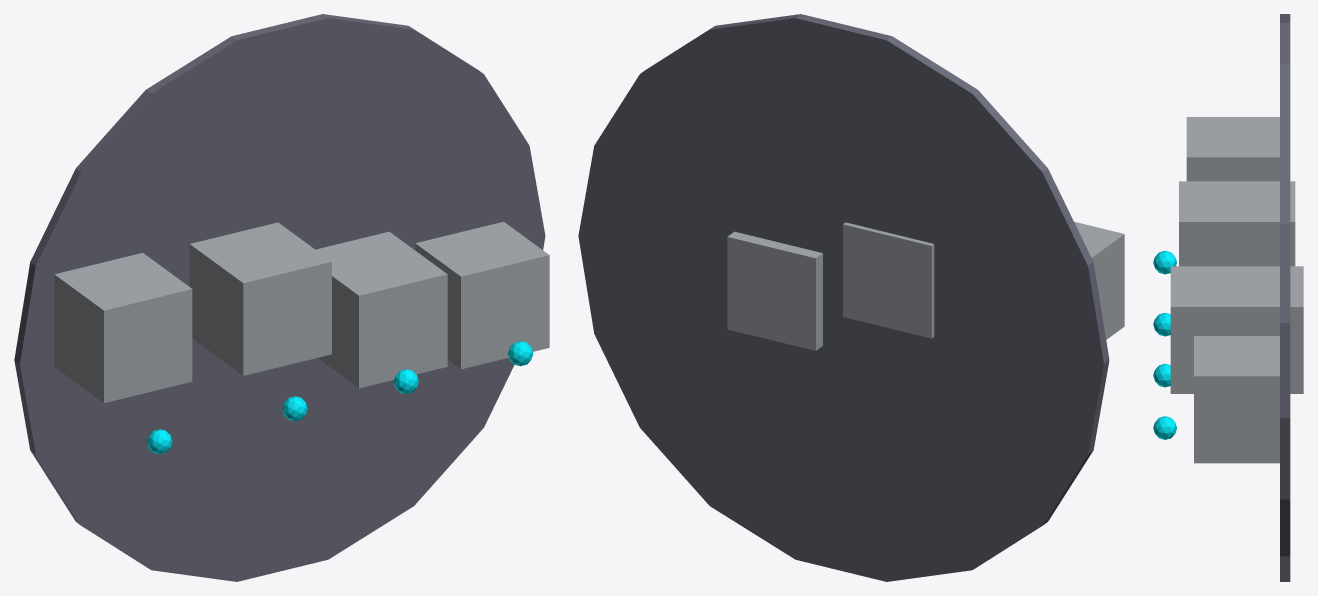
The model's file is 04_event_hazard_cluster.glb.
The picture shows the model from 3 angles, left to right: view 1: azimuth 30°, elevation 25°; view 2: azimuth 150°, elevation 25°; view 3: azimuth 270°, elevation 25°; orthographic projection. The views are drawn at different scales.
Parts seen in each view (by area): view 1: scatter_base, tech_crate_1, tech_crate_0, tech_crate_2, tech_crate_3; view 2: scatter_base, tech_crate_2, tech_crate_1, tech_crate_0; view 3: tech_crate_3, tech_crate_2, tech_crate_1, scatter_base, tech_crate_0, status_light_3, status_light_0, status_light_1, status_light_2.
Part boxes in pixels (x1,y1,x2,y2): scatter_base: (14,14,545,581); tech_crate_1: (189,222,331,375); tech_crate_0: (54,253,192,402); tech_crate_2: (316,231,447,388); tech_crate_3: (415,221,549,369); scatter_base: (578,14,1109,581); tech_crate_2: (727,231,822,350); tech_crate_1: (843,222,934,338); tech_crate_0: (1074,221,1124,339); tech_crate_3: (1194,336,1279,463); tech_crate_2: (1170,266,1303,393); tech_crate_1: (1179,181,1295,266); scatter_base: (1280,14,1290,581); tech_crate_0: (1186,117,1279,181); status_light_3: (1153,416,1176,439); status_light_0: (1153,250,1176,274); status_light_1: (1153,312,1170,336); status_light_2: (1153,363,1170,387).
Bounding box in the file's own units: 1.9 × 1.87 × 0.5021.
